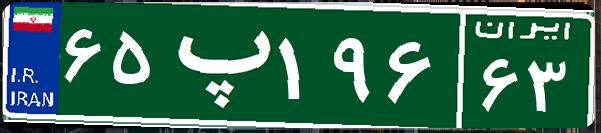1: (273, 28, 330, 110)
3: (525, 38, 570, 115)
5: (110, 28, 158, 105)
6: (385, 28, 445, 110), (57, 26, 110, 107), (475, 38, 525, 113)
9: (330, 28, 385, 110)
پ: (158, 15, 273, 115)
